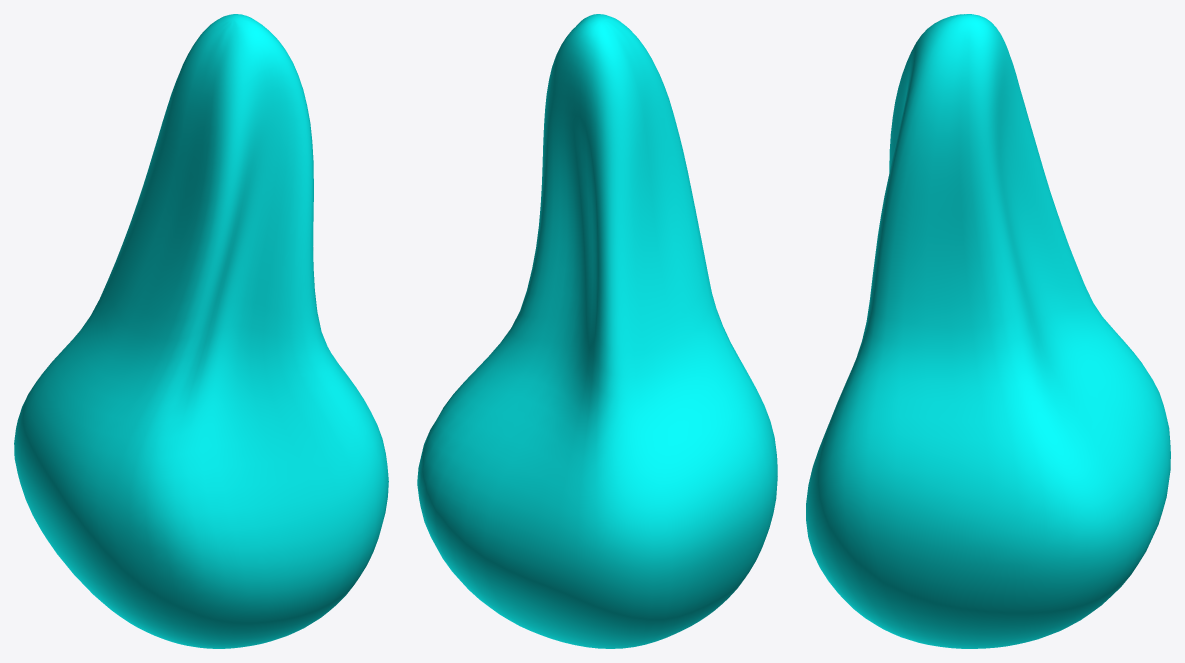
File: goccia.fbx
The picture shows the model from 3 angles, left to right: view 1: azimuth 30°, elevation 25°; view 2: azimuth 150°, elevation 25°; view 3: azimuth 270°, elevation 25°; orthographic projection. The views are drawn at different scales.
Parts seen in each view (by area): view 1: pSphere1; view 2: pSphere1; view 3: pSphere1.
Part boxes in pixels (x1=…): pSphere1: x1=14, y1=14, x2=388, y2=648; pSphere1: x1=417, y1=14, x2=777, y2=648; pSphere1: x1=806, y1=14, x2=1170, y2=648.
Size of the model in its own units: 10.5 by 19.92 by 10.55.
